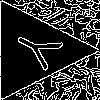Y: (8, 24, 74, 77)
